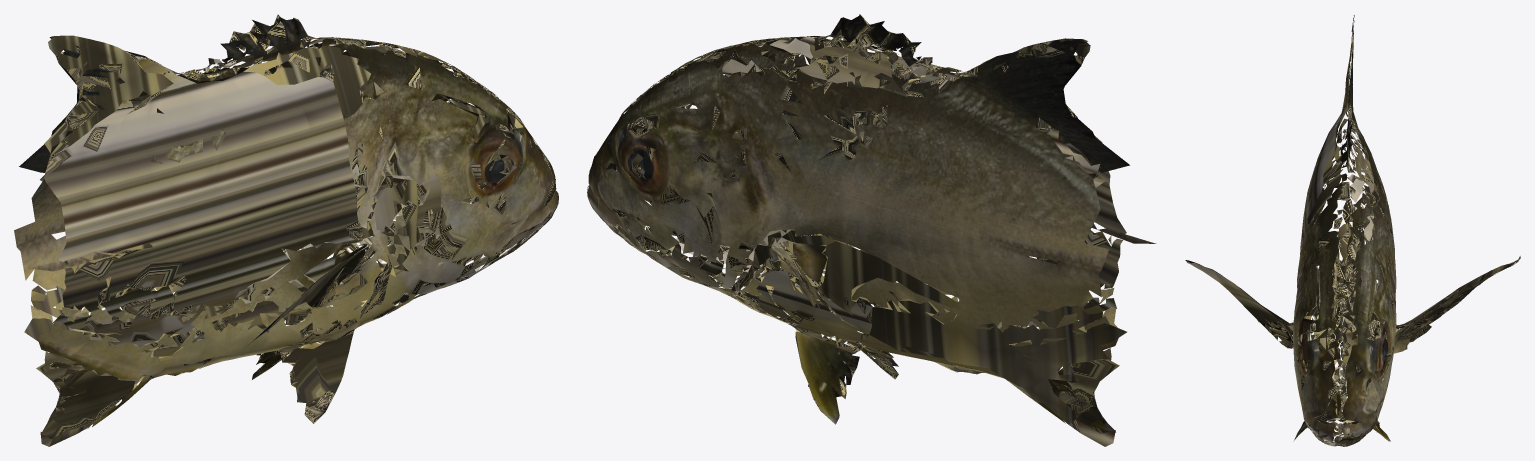
The model's file is gianttrevally_a.glb.
3 views of the same model, side by side, from view 1: azimuth 30°, elevation 25°; view 2: azimuth 150°, elevation 25°; view 3: azimuth 270°, elevation 25° (orthographic). The views are drawn at different scales.
Visible parts, largest first — view 1: gianttrevally_a; view 2: gianttrevally_a; view 3: gianttrevally_a.
Boxes of the visible parts, <box> form: gianttrevally_a: <box>14,14,558,446</box>; gianttrevally_a: <box>587,14,1156,446</box>; gianttrevally_a: <box>1185,15,1520,446</box>.
Size of the model in its own units: 0.7141 by 0.5212 by 0.4686.
Materials: 1 (1 with a texture image).
